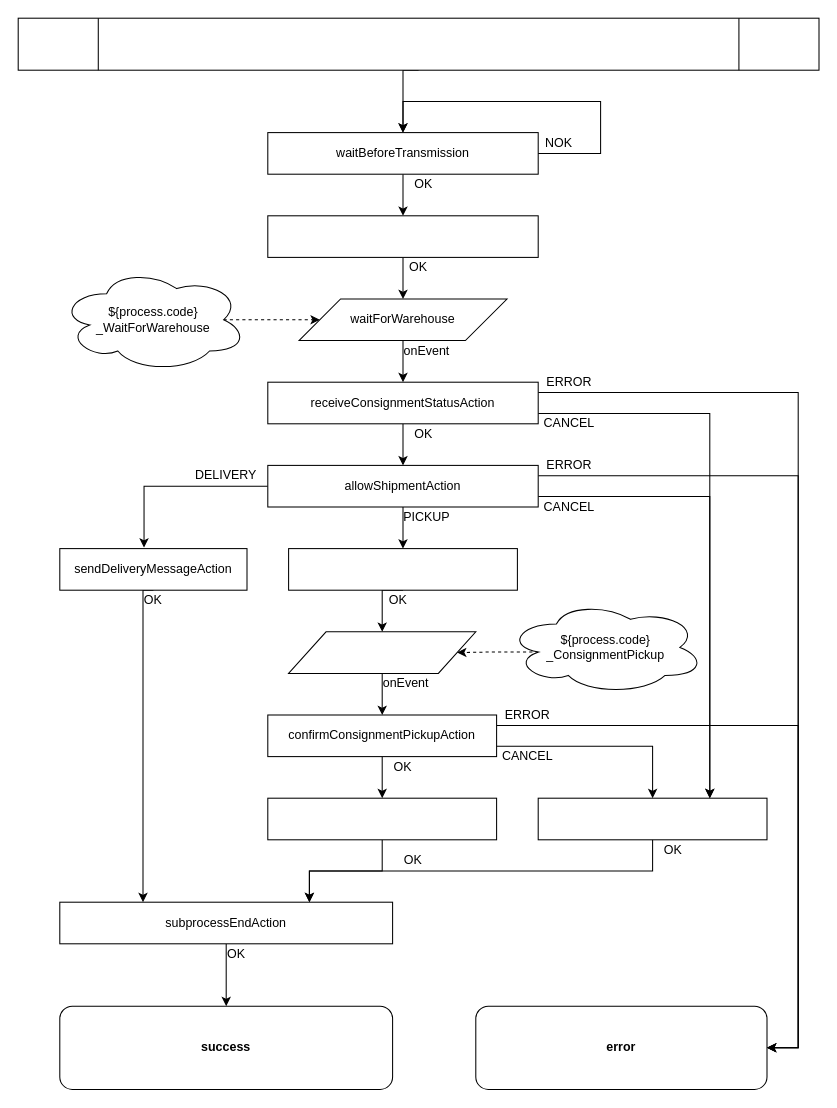
Some shapes in this 837 by 1108 pixel diagram are drawn without their labels. The shapes that lost their labels are listed below. From the top down, each one's centre as x and y in pixels, then its label:
At point (418, 43): "Proces: consignment-process".
At point (402, 236): "sendConsignmentToWarehouseAction".
At point (402, 569): "sendReadyForPickupMessageAction".
At point (382, 652): "waitForPickup".
At point (382, 818): "sendPickedUpMessageAction".
At point (652, 818): "cancelConsignmentAction".
